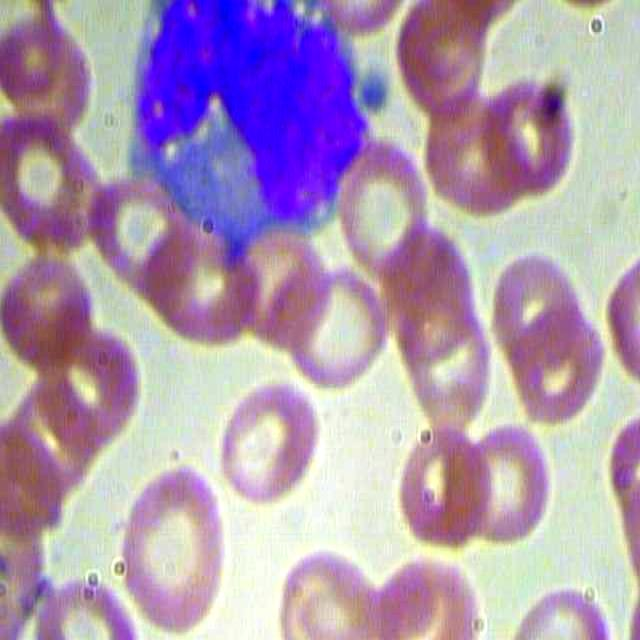RBC: (117, 460, 230, 633), (216, 372, 330, 505), (452, 419, 566, 552), (385, 423, 499, 556), (376, 225, 482, 363), (505, 296, 608, 433), (286, 262, 382, 394), (1, 238, 96, 370), (1, 1, 96, 131), (477, 76, 577, 199), (426, 93, 526, 216), (488, 239, 588, 361)
WBC: (123, 2, 361, 262)
